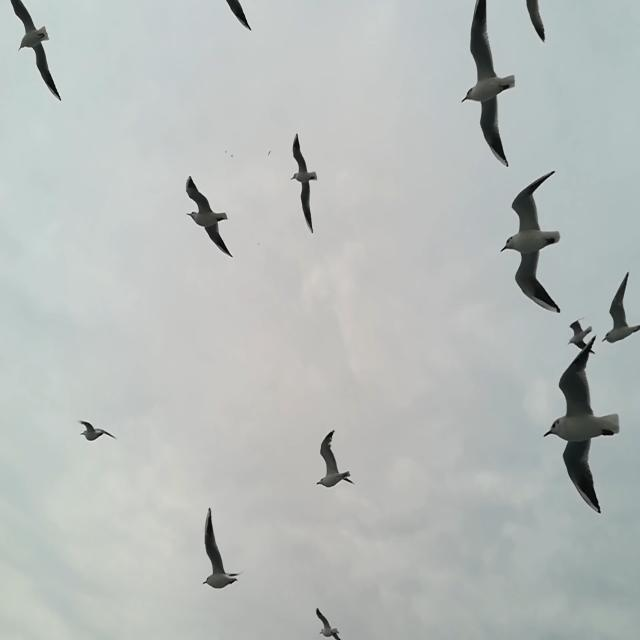bird: (539, 343, 621, 523), (458, 0, 517, 168), (497, 168, 562, 316), (3, 0, 62, 104), (181, 169, 235, 264), (200, 503, 247, 591), (289, 130, 320, 232), (601, 268, 640, 346), (314, 428, 355, 495), (566, 312, 597, 357), (77, 413, 119, 444), (312, 604, 340, 640)
